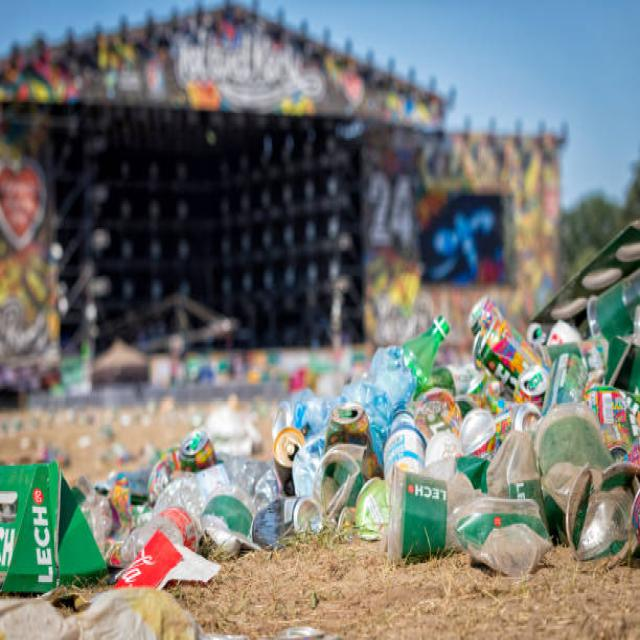cardboard: (5, 448, 96, 590)
trash: (112, 294, 640, 588)
